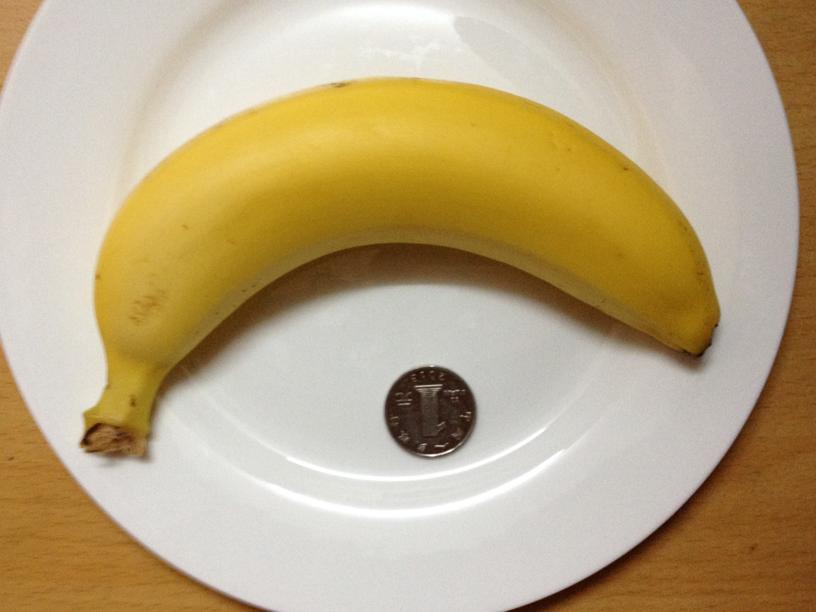banana: (73, 79, 719, 442)
coin: (383, 365, 478, 458)
